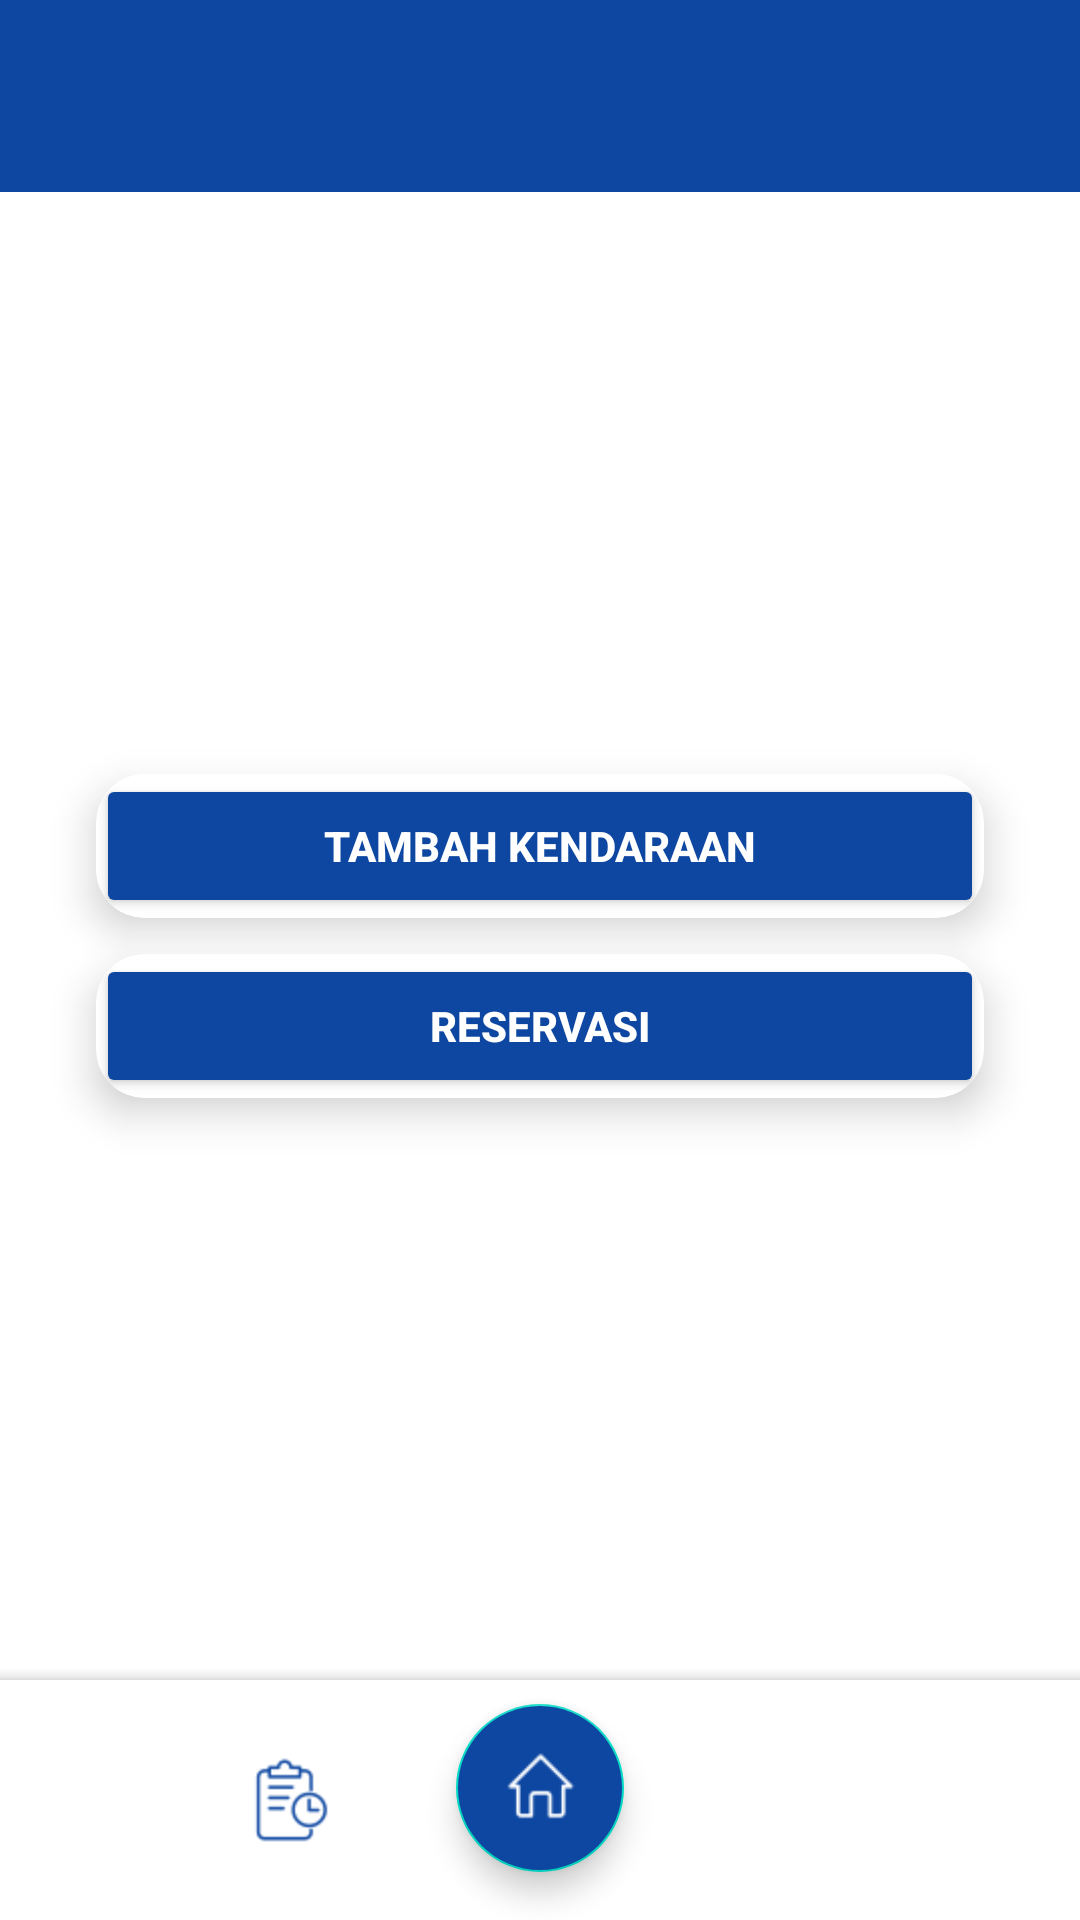

Named icons in this screenshot (1080px×1920px) and their bounding boxes, bbox(x1, y1, x2, y2):
History: bbox(256, 1758, 328, 1842)
home: bbox(456, 1704, 624, 1872)
